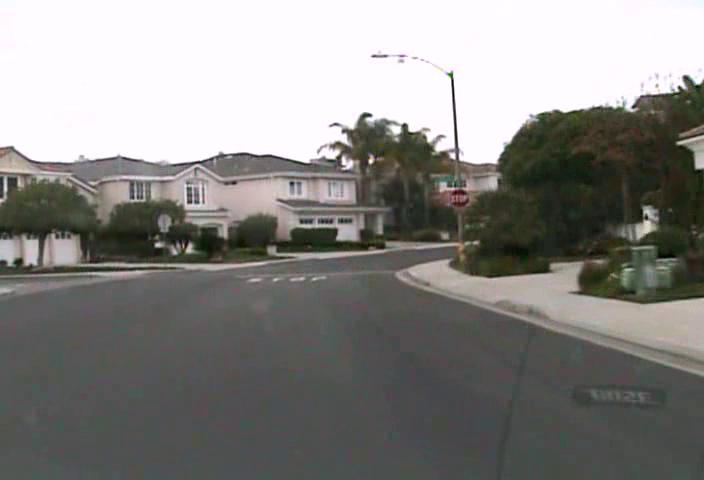stop: (448, 187, 470, 209)
